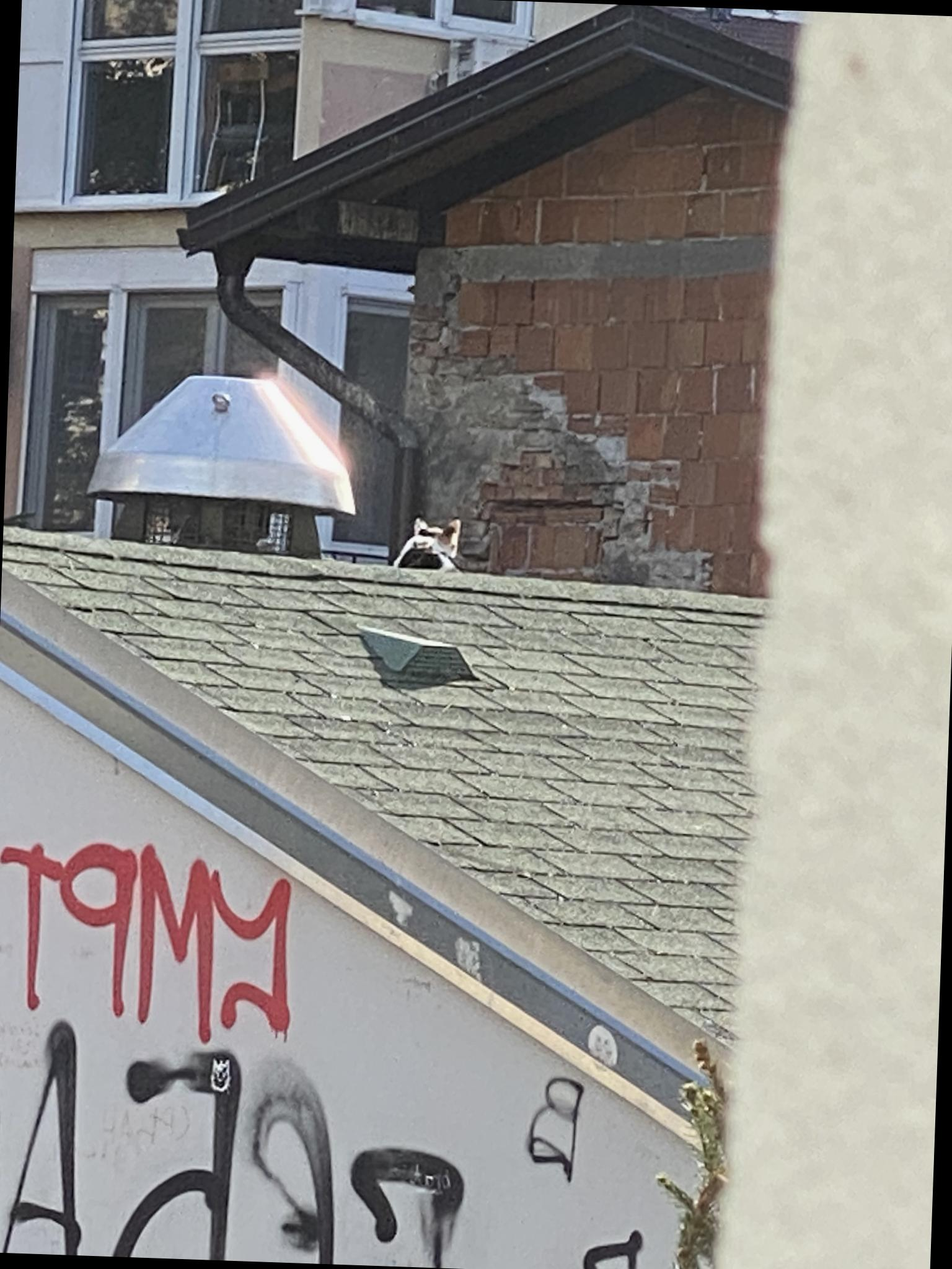macka: (394, 515, 464, 572)
